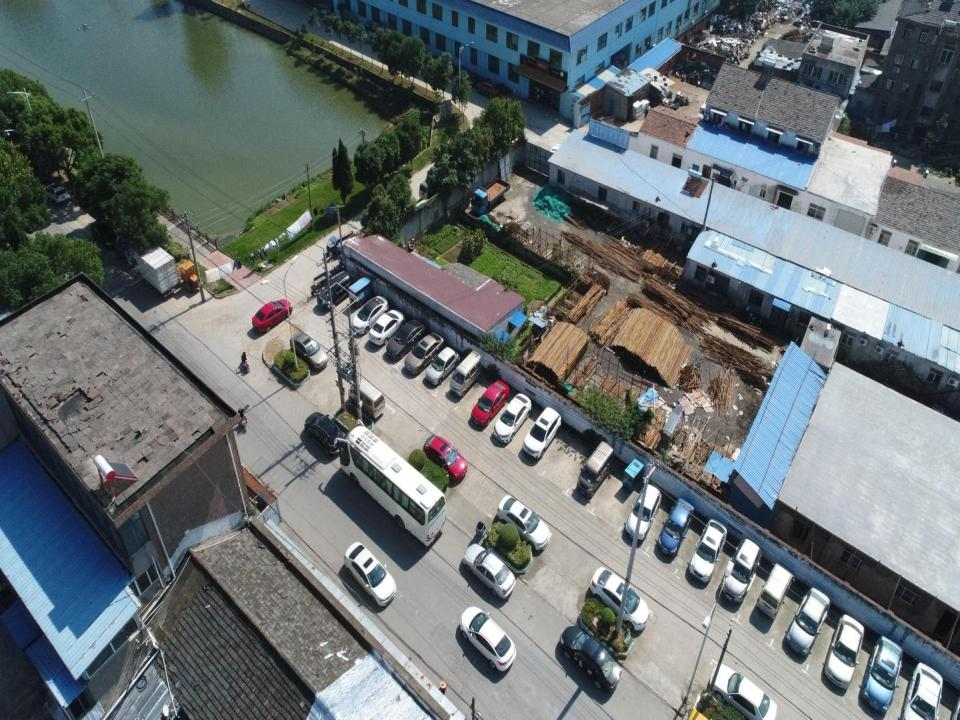bus: (340, 425, 448, 545)
car: (560, 624, 622, 690), (589, 567, 649, 632), (710, 664, 780, 719), (460, 606, 518, 670), (344, 542, 396, 607), (860, 635, 902, 713), (824, 608, 863, 690), (786, 587, 830, 657), (462, 544, 516, 600), (497, 495, 550, 550), (720, 538, 761, 604), (689, 518, 726, 582), (657, 498, 694, 558), (421, 434, 468, 481), (625, 482, 661, 540), (898, 661, 934, 718), (523, 407, 560, 460), (471, 378, 510, 428), (492, 394, 531, 444), (305, 411, 343, 457), (405, 332, 443, 375), (386, 318, 424, 360), (352, 295, 388, 337), (425, 343, 460, 386), (290, 332, 329, 370), (369, 308, 405, 346), (252, 298, 292, 332), (317, 271, 351, 309), (91, 221, 119, 252), (113, 239, 137, 269), (43, 183, 71, 207), (454, 64, 478, 88), (477, 80, 501, 99)
truck: (133, 248, 182, 298), (471, 177, 511, 215)
van: (575, 442, 616, 498), (756, 563, 792, 619), (347, 378, 386, 419), (450, 351, 483, 397), (418, 178, 442, 200)
